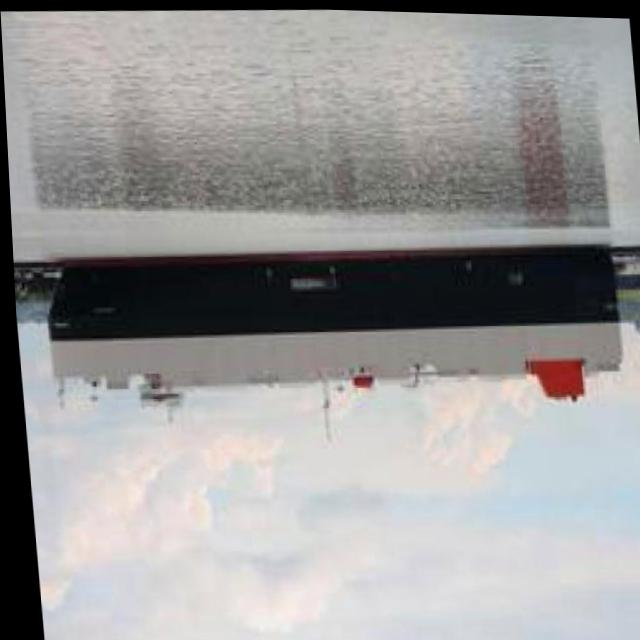ship2: (43, 241, 618, 429)
